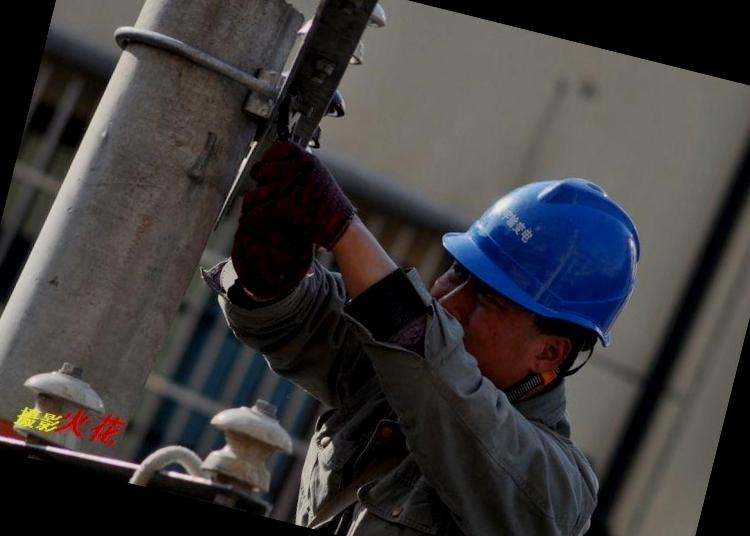helmet: (428, 144, 670, 336)
no_vest: (297, 343, 620, 536)
person: (305, 130, 688, 536)
